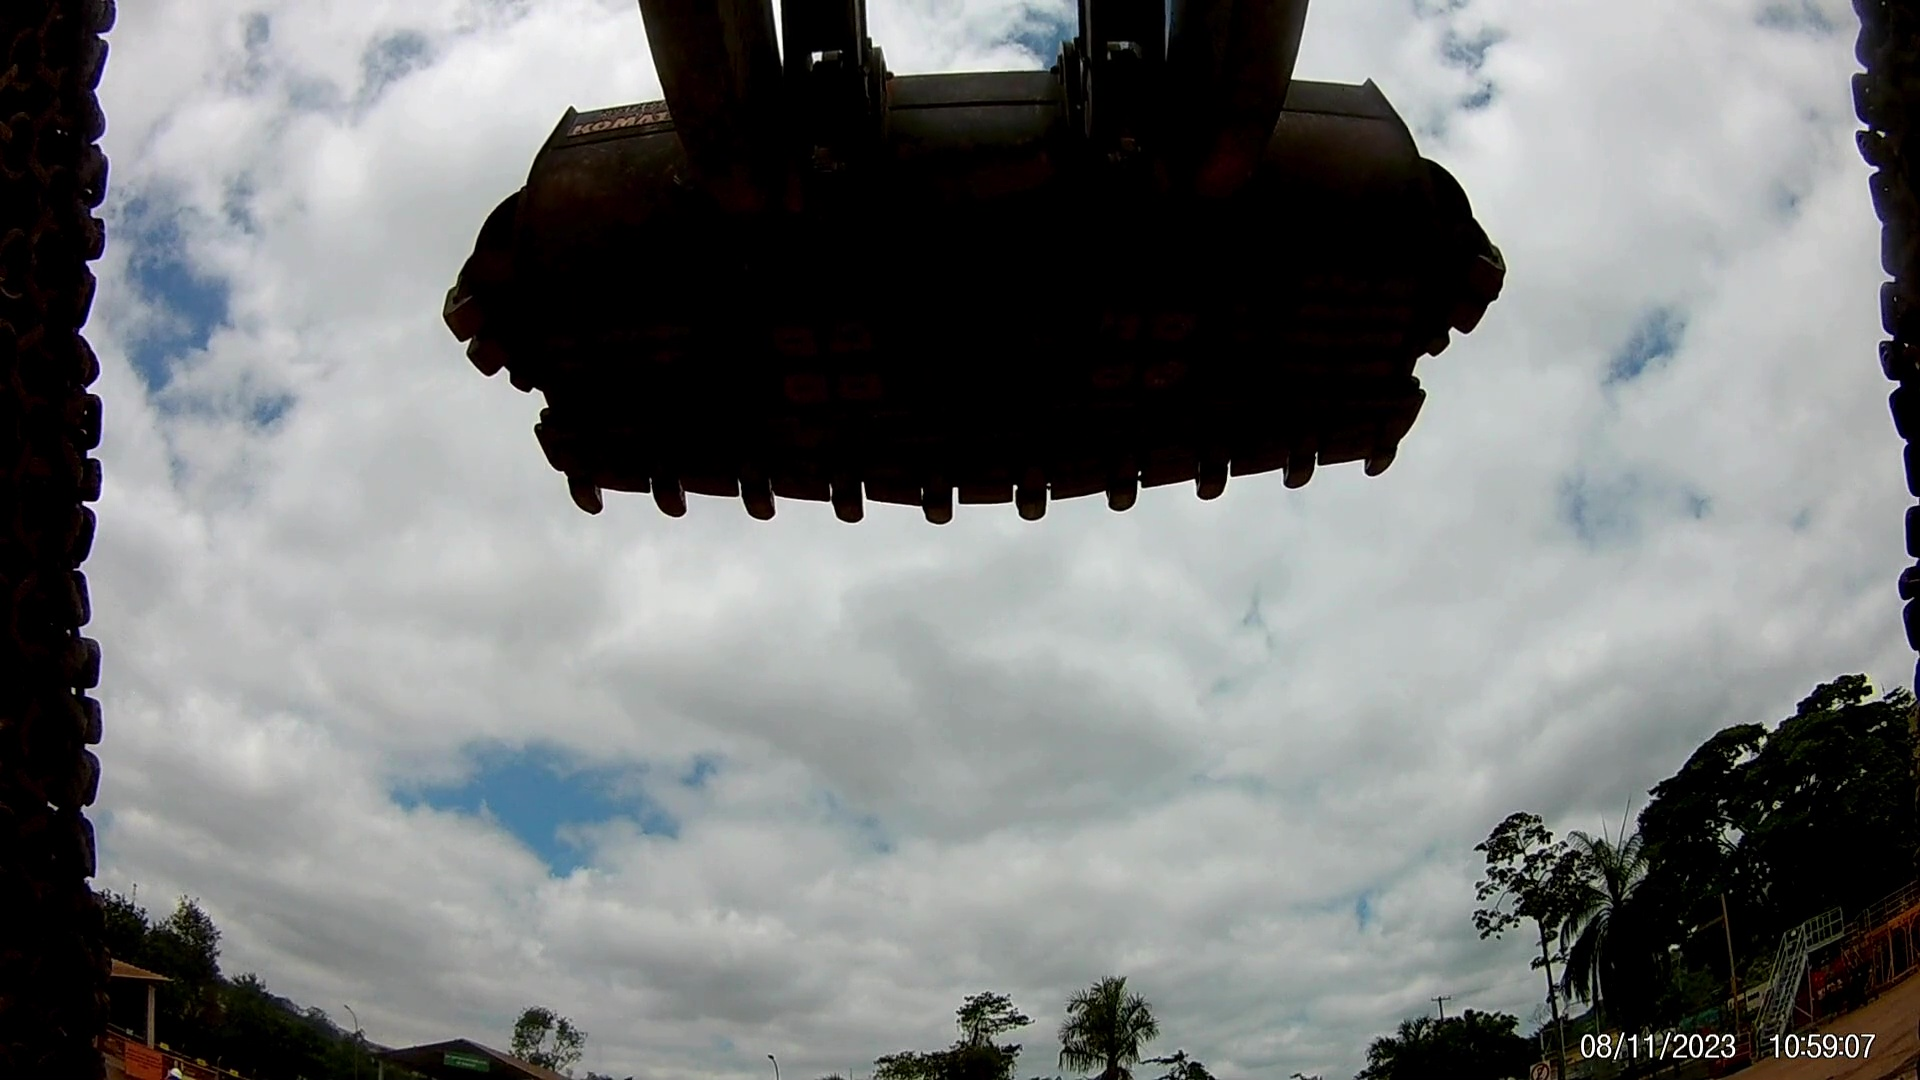FPS: (989, 460, 1069, 534), (1261, 422, 1331, 498), (727, 460, 789, 538), (1095, 444, 1149, 531), (820, 469, 885, 531), (651, 462, 704, 535), (909, 465, 957, 543), (547, 472, 620, 524), (1358, 411, 1406, 488), (1187, 448, 1237, 516)
